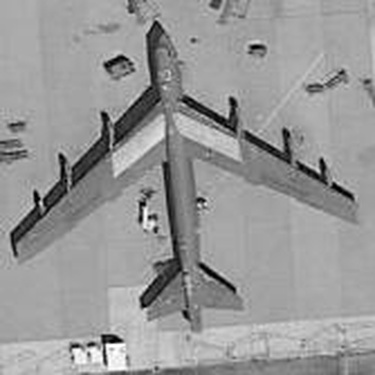airplane: (2, 14, 369, 359)
